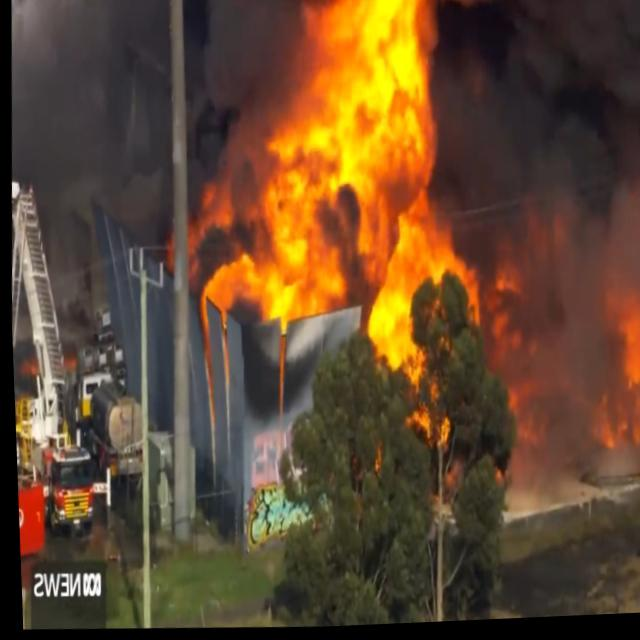fire: (210, 1, 464, 540), (536, 286, 640, 492), (448, 248, 532, 328)
